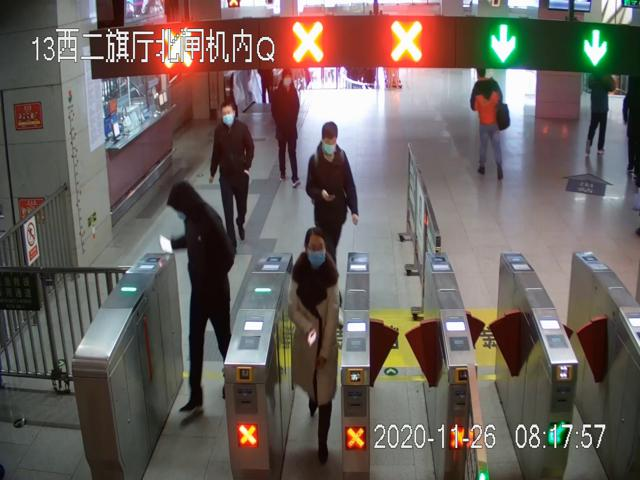person: (161, 181, 234, 416), (289, 226, 340, 460), (307, 123, 358, 326), (210, 101, 256, 252), (470, 67, 509, 181), (271, 68, 303, 188)
